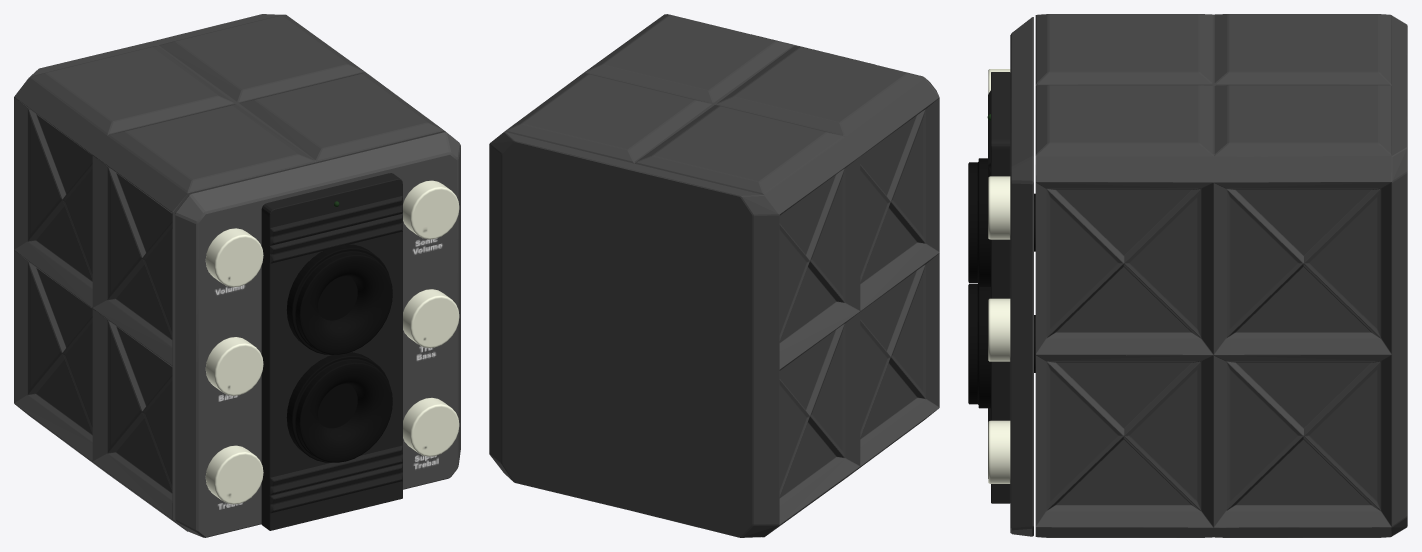
3 renders of one model, left to right at view 1: azimuth 30°, elevation 25°; view 2: azimuth 150°, elevation 25°; view 3: azimuth 270°, elevation 25°, orthographic. The views are drawn at different scales.
Visible parts, largest first — view 1: Subwoofer_A_Subwoofer_A_0; view 2: Subwoofer_A_Subwoofer_A_0; view 3: Subwoofer_A_Subwoofer_A_0.
Part boxes in pixels (bbox=[...]): Subwoofer_A_Subwoofer_A_0: bbox=[14, 14, 460, 537]; Subwoofer_A_Subwoofer_A_0: bbox=[489, 14, 939, 537]; Subwoofer_A_Subwoofer_A_0: bbox=[968, 14, 1407, 537].
Bounding box in the file's own units: 24.12 × 28.42 × 28.28.
1 material, 1 textured.
